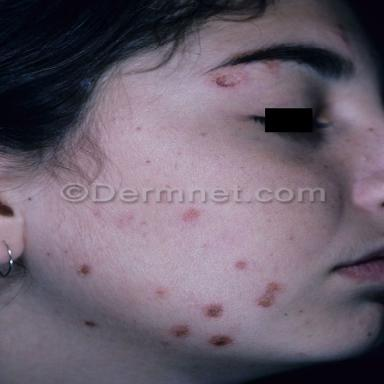acne: (258, 283, 281, 307), (210, 335, 233, 346), (204, 304, 223, 317), (172, 325, 189, 337), (183, 209, 200, 221), (235, 261, 247, 269)
